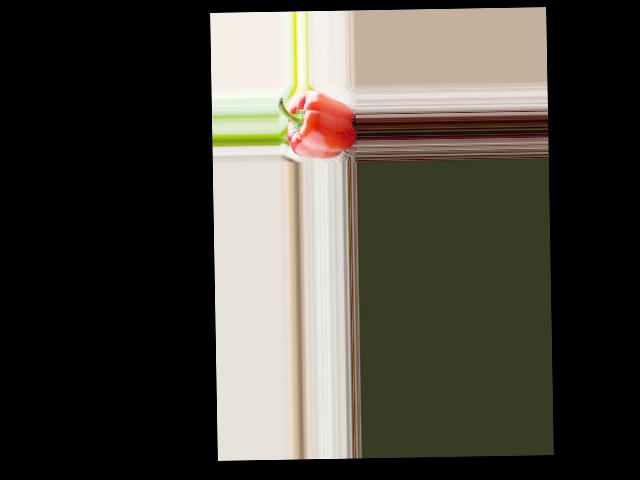bell_pepper: (279, 88, 357, 157)
